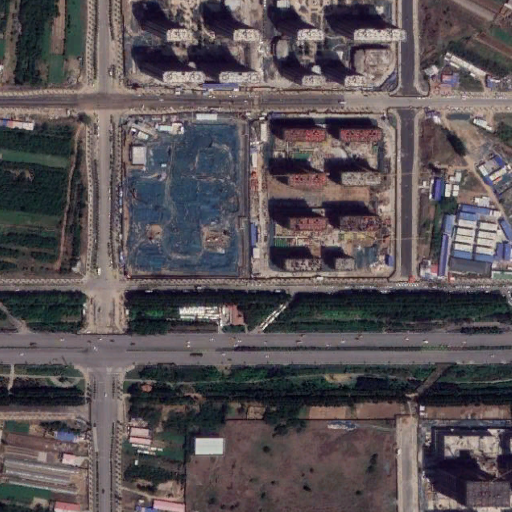cw: (118, 114, 251, 276)
